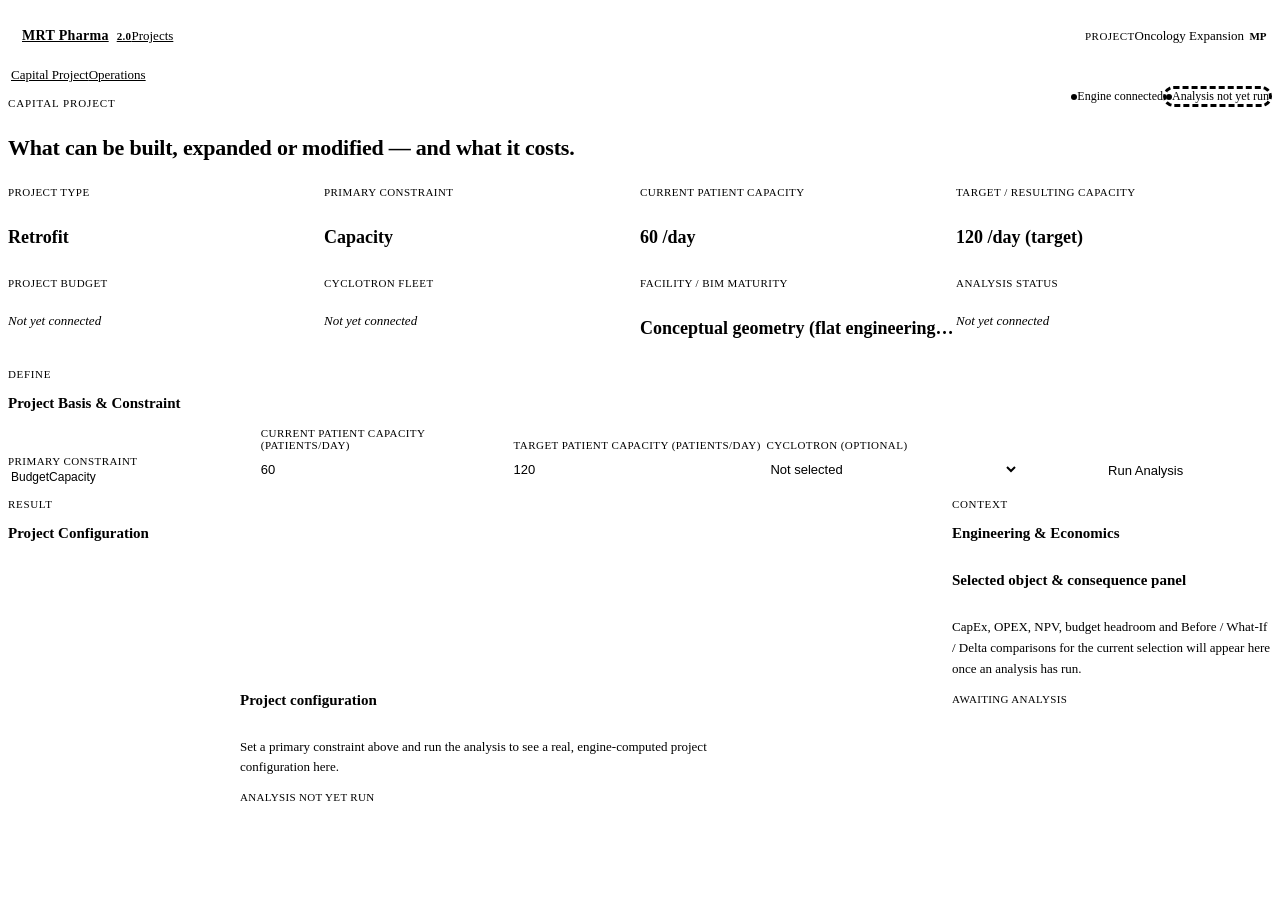
Test: Capital Project real engine connection › budget mode requires a budget value before Run Analysis is enabled
Expected: the button "Run Analysis" is enabled, [1019, 454, 1272, 488]
Step 1. Click the radio button labelled "Budget" → (30, 478), box [11, 470, 49, 484]
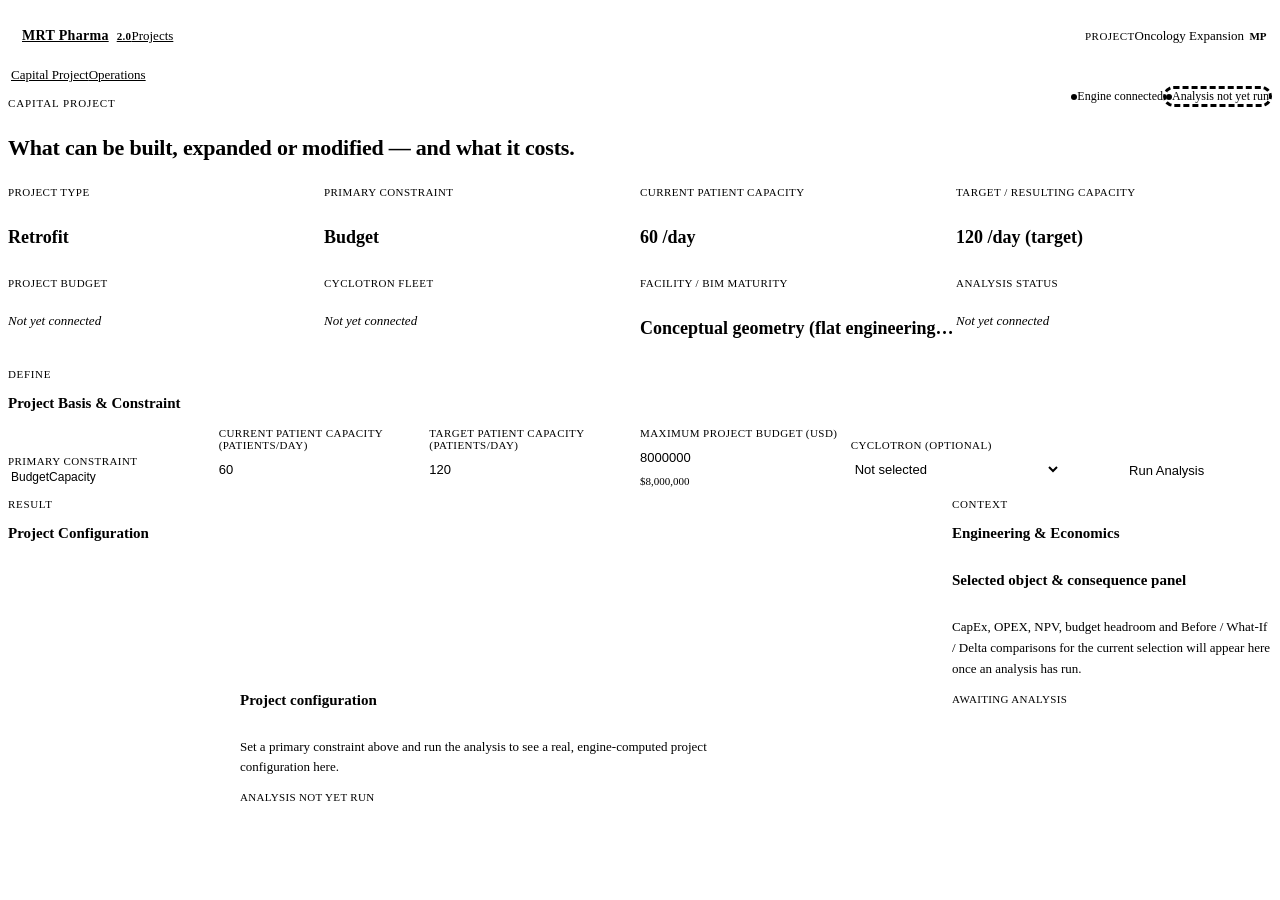
Step 2. Replace the text in the number field labelled "Maximum Project Budget (USD) $8,000,000" with "0" → (745, 458), box [640, 440, 851, 476]
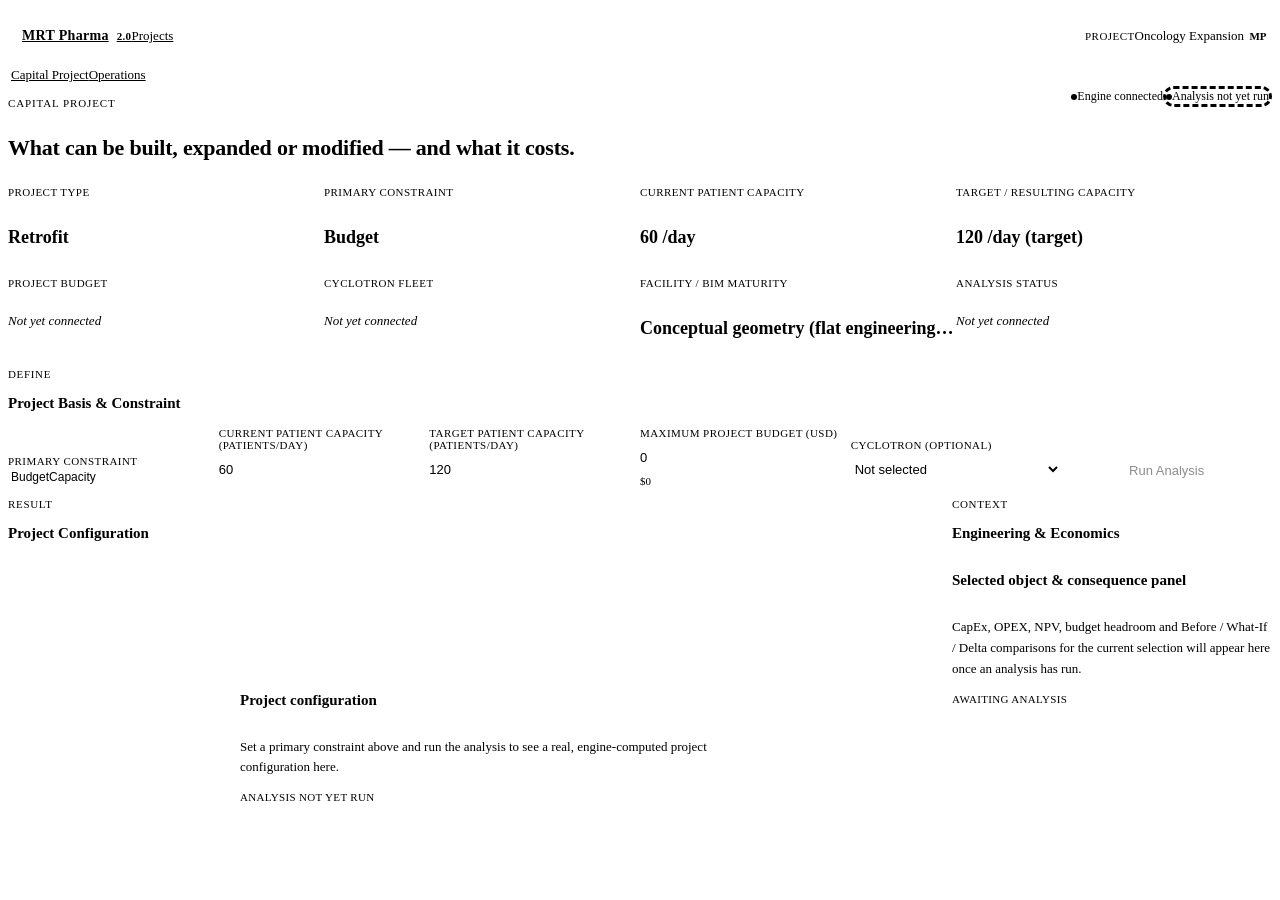
Result: the button "Run Analysis" is disabled at [1061, 454, 1272, 488]
